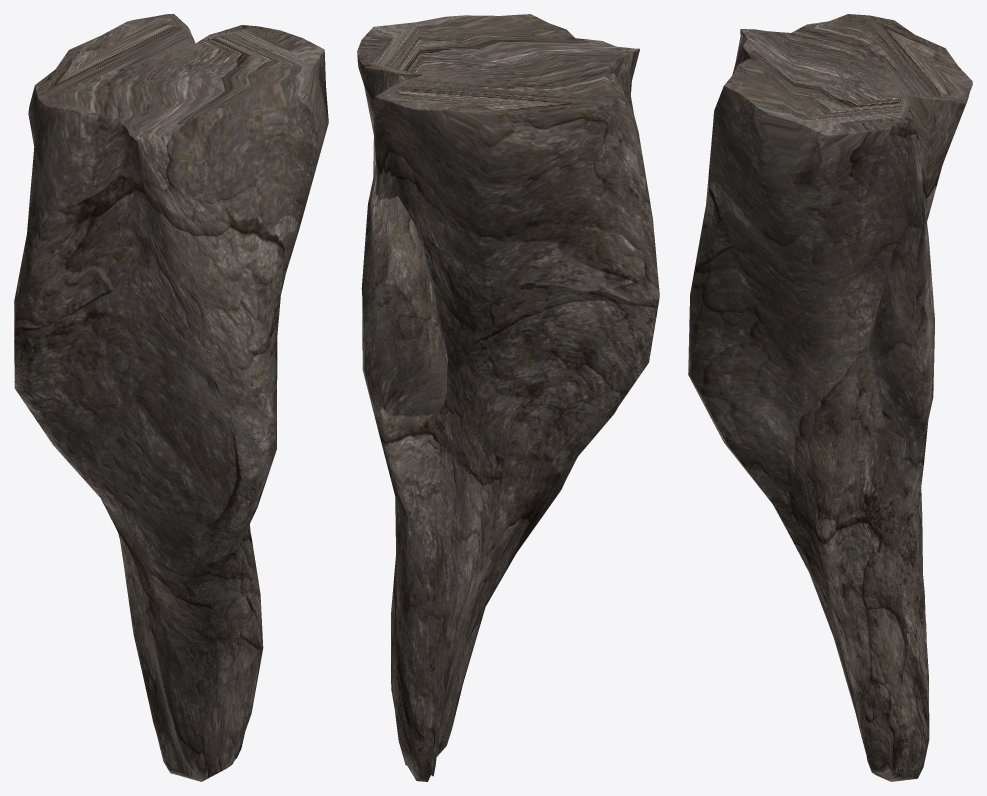
File: ESTALACTITA MEDIANA FRAGMENTOS.FBX
3 renders of one model, left to right at view 1: azimuth 30°, elevation 25°; view 2: azimuth 150°, elevation 25°; view 3: azimuth 270°, elevation 25°, orthographic. The views are drawn at different scales.
Visible parts, largest first — view 1: ESTALACTITA 002_frag_003, ESTALACTITA 002_frag_002, ESTALACTITA 002_frag_001, ESTALACTITA 002_frag_005, ESTALACTITA 002_frag_004; view 2: ESTALACTITA 002_frag_005, ESTALACTITA 002_frag_002, ESTALACTITA 002_frag_001, ESTALACTITA 002_frag_003; view 3: ESTALACTITA 002_frag_005, ESTALACTITA 002_frag_001, ESTALACTITA 002_frag_002, ESTALACTITA 002_frag_003, ESTALACTITA 002_frag_004.
Boxes of the visible parts, x1=… form: ESTALACTITA 002_frag_003: x1=22, y1=68, x2=305, y2=302; ESTALACTITA 002_frag_002: x1=14, y1=257, x2=276, y2=545; ESTALACTITA 002_frag_001: x1=84, y1=480, x2=263, y2=781; ESTALACTITA 002_frag_005: x1=56, y1=14, x2=328, y2=293; ESTALACTITA 002_frag_004: x1=113, y1=169, x2=299, y2=398; ESTALACTITA 002_frag_005: x1=357, y1=16, x2=615, y2=482; ESTALACTITA 002_frag_002: x1=406, y1=217, x2=659, y2=480; ESTALACTITA 002_frag_001: x1=391, y1=451, x2=582, y2=781; ESTALACTITA 002_frag_003: x1=458, y1=14, x2=655, y2=249; ESTALACTITA 002_frag_005: x1=726, y1=35, x2=972, y2=513; ESTALACTITA 002_frag_001: x1=758, y1=485, x2=929, y2=781; ESTALACTITA 002_frag_002: x1=688, y1=316, x2=894, y2=515; ESTALACTITA 002_frag_003: x1=706, y1=14, x2=915, y2=196; ESTALACTITA 002_frag_004: x1=689, y1=158, x2=730, y2=325.
Bounding box in the file's own units: 79.37 × 181 × 67.87.
1 material, 1 textured.
